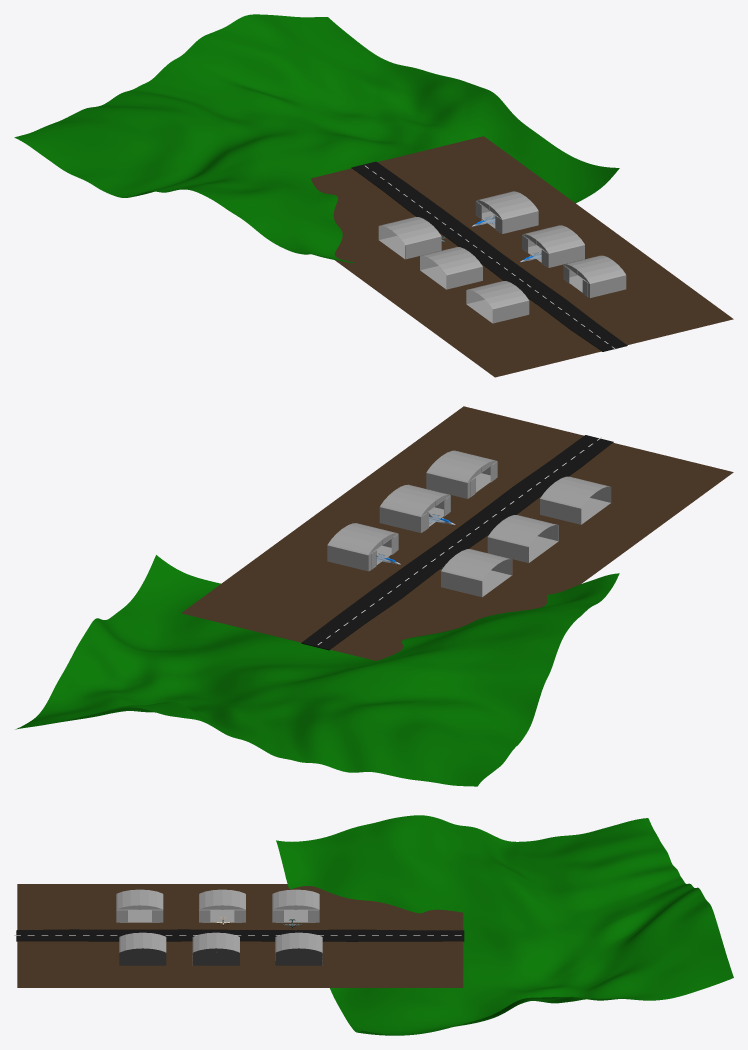
File: cenário.fbx
3 views of the same model, one above another, from view 1: azimuth 30°, elevation 25°; view 2: azimuth 150°, elevation 25°; view 3: azimuth 270°, elevation 25° (orthographic). The views are drawn at different scales.
Visible parts, largest first — view 1: TERRENO, pista 3, pista, HANGAR.012, HANGAR.008, HANGAR.010, HANGAR.006, HANGAR.004, HANGAR.002; view 2: TERRENO, pista 3, pista, HANGAR.012, HANGAR.008, HANGAR.010, HANGAR.006, HANGAR.002, HANGAR.004; view 3: TERRENO, pista 3, pista, HANGAR.008, HANGAR.012, HANGAR.010, HANGAR.002, HANGAR.004, HANGAR.007, HANGAR.006, HANGAR.003, HANGAR.005.
Part boxes in pixels (x1,y1,x2,y2): TERRENO: [14, 14, 619, 262]; pista 3: [311, 136, 733, 377]; pista: [351, 161, 627, 351]; HANGAR.012: [378, 217, 441, 259]; HANGAR.008: [466, 281, 528, 323]; HANGAR.010: [420, 247, 482, 289]; HANGAR.006: [564, 255, 626, 297]; HANGAR.004: [522, 225, 584, 267]; HANGAR.002: [476, 191, 538, 233]; TERRENO: [15, 555, 619, 786]; pista 3: [181, 406, 733, 660]; pista: [301, 435, 613, 650]; HANGAR.012: [441, 549, 512, 597]; HANGAR.008: [540, 476, 611, 524]; HANGAR.010: [487, 515, 558, 562]; HANGAR.006: [426, 450, 497, 498]; HANGAR.002: [327, 523, 398, 571]; HANGAR.004: [379, 484, 450, 532]; TERRENO: [276, 815, 733, 1035]; pista 3: [17, 884, 463, 987]; pista: [16, 929, 464, 941]; HANGAR.008: [116, 889, 163, 922]; HANGAR.012: [272, 889, 319, 922]; HANGAR.010: [199, 889, 245, 922]; HANGAR.002: [275, 932, 322, 965]; HANGAR.004: [192, 932, 239, 965]; HANGAR.007: [119, 948, 166, 965]; HANGAR.006: [119, 932, 166, 952]; HANGAR.003: [275, 948, 322, 965]; HANGAR.005: [192, 948, 239, 965].
Size of the model in its own units: 14353 by 2250 by 22558.
